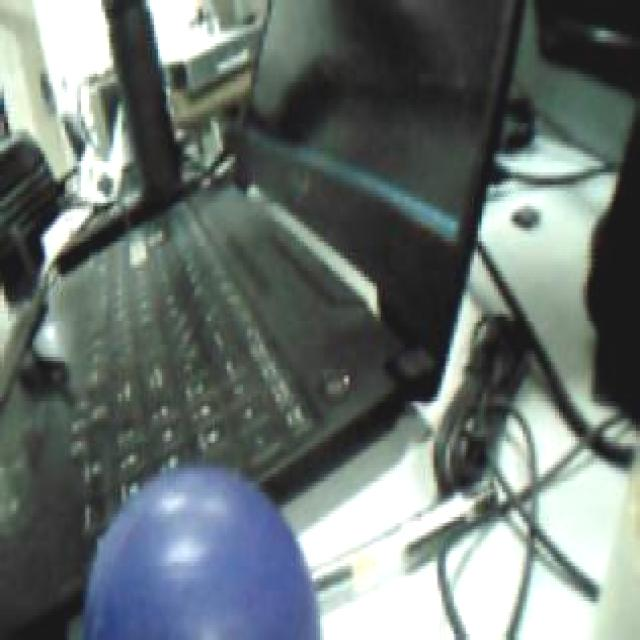BallPurple: (83, 465, 320, 640)
